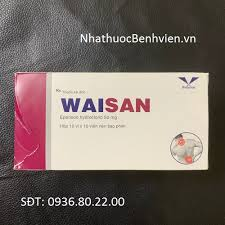Waisan: (56, 95, 154, 113)
